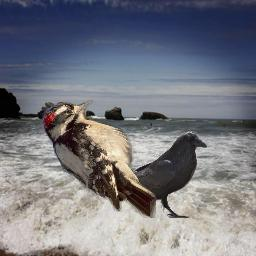Crow: (114, 131, 208, 218)
Woodpecker: (42, 100, 156, 218)
